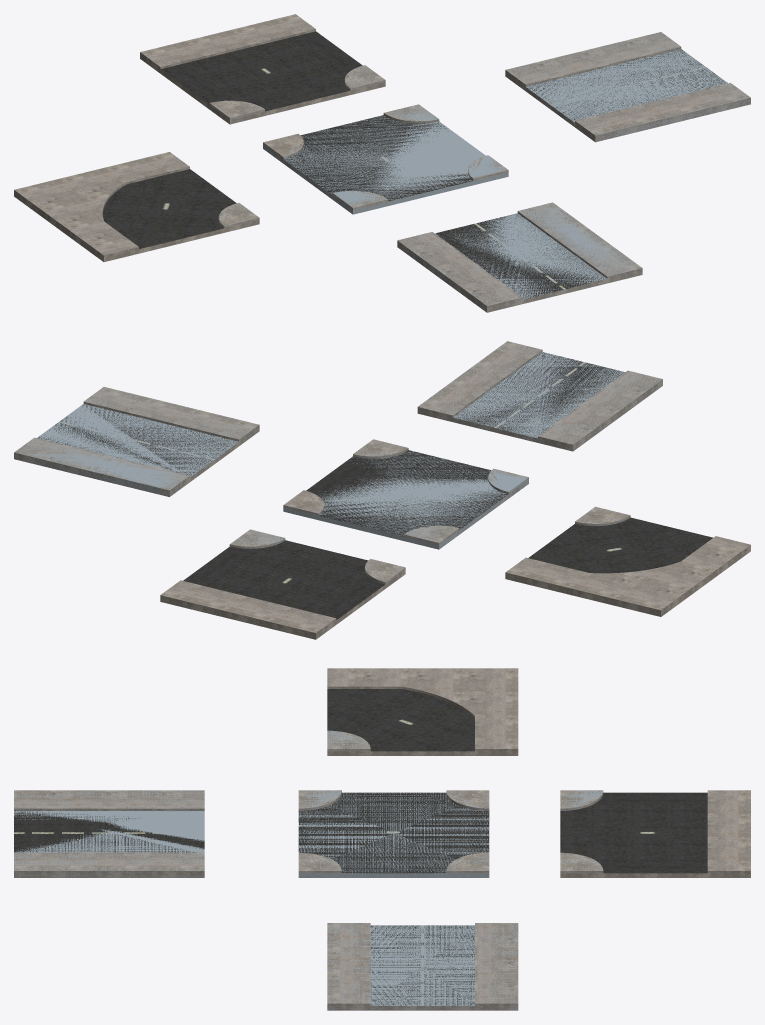
File: RoadPack.fbx
3 renders of one model, top to bottom at view 1: azimuth 30°, elevation 25°; view 2: azimuth 150°, elevation 25°; view 3: azimuth 270°, elevation 25°, orthographic. The views are drawn at different scales.
Visible parts, largest first — view 1: Group2, Group6, Group7, Group3, Group9, Group11, Group5, Group12, Group4, Group8, Group13, Group10; view 2: Group2, Group6, Group7, Group3, Group9, Group4, Group10, Group13, Group8, Group11, Group12, Group5; view 3: Group6, Group2, Group7, Group3, Group9, Group8, Group10, Group11, Group4, Group12, Group13, Group5.
Part boxes in pixels (x1=…): Group2: x1=505, y1=32, x2=750, y2=142; Group6: x1=397, y1=202, x2=642, y2=312; Group7: x1=14, y1=152, x2=259, y2=261; Group3: x1=140, y1=14, x2=385, y2=124; Group9: x1=263, y1=115, x2=508, y2=214; Group11: x1=383, y1=104, x2=439, y2=123; Group5: x1=209, y1=100, x2=264, y2=119; Group12: x1=332, y1=190, x2=388, y2=209; Group4: x1=344, y1=65, x2=385, y2=90; Group8: x1=218, y1=203, x2=259, y2=228; Group13: x1=263, y1=133, x2=303, y2=159; Group10: x1=468, y1=155, x2=508, y2=180; Group2: x1=14, y1=387, x2=259, y2=496; Group6: x1=417, y1=341, x2=662, y2=451; Group7: x1=505, y1=517, x2=750, y2=616; Group3: x1=160, y1=540, x2=405, y2=639; Group9: x1=283, y1=450, x2=528, y2=549; Group4: x1=229, y1=529, x2=285, y2=548; Group10: x1=353, y1=439, x2=408, y2=458; Group13: x1=404, y1=525, x2=459, y2=544; Group8: x1=575, y1=506, x2=630, y2=525; Group11: x1=283, y1=490, x2=324, y2=515; Group12: x1=488, y1=468, x2=528, y2=494; Group5: x1=365, y1=559, x2=405, y2=584; Group6: x1=14, y1=790, x2=204, y2=877; Group2: x1=327, y1=923, x2=518, y2=1010; Group7: x1=327, y1=668, x2=518, y2=755; Group3: x1=560, y1=790, x2=750, y2=877; Group9: x1=298, y1=792, x2=489, y2=877; Group8: x1=327, y1=730, x2=370, y2=751; Group10: x1=298, y1=852, x2=341, y2=873; Group11: x1=446, y1=852, x2=489, y2=873; Group4: x1=560, y1=852, x2=603, y2=873; Group12: x1=298, y1=790, x2=341, y2=810; Group13: x1=446, y1=790, x2=489, y2=810; Group5: x1=560, y1=790, x2=603, y2=810.
Bounding box in the file's own units: 201 × 1.99 × 187.
